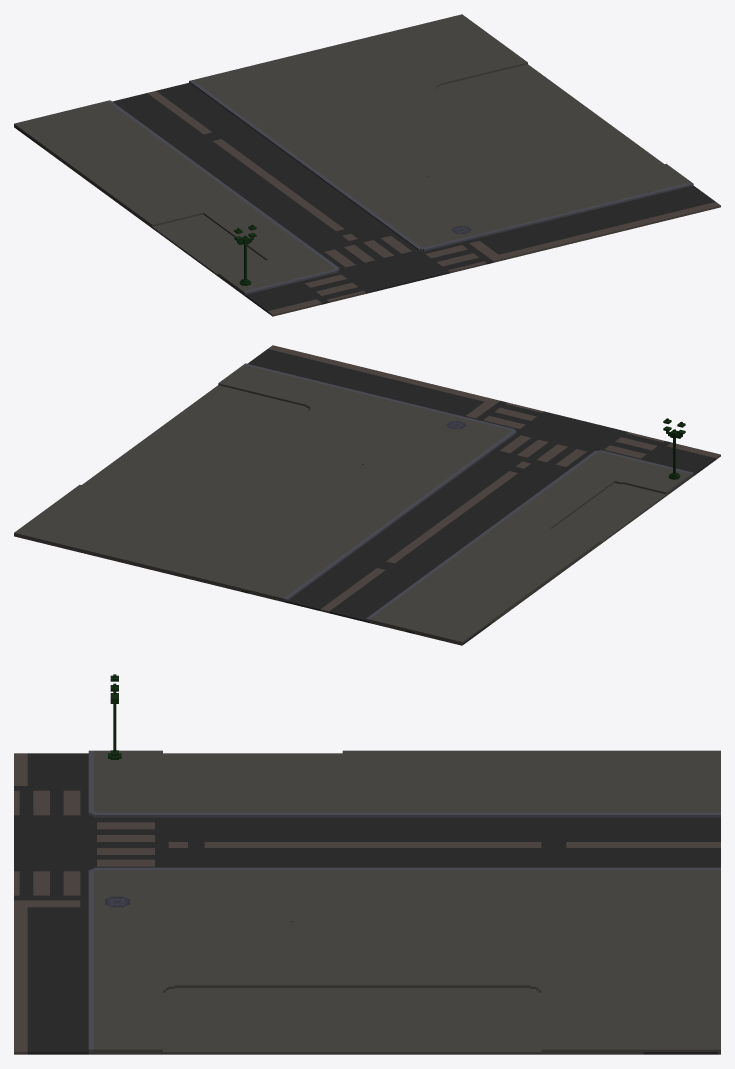
The model's file is Street2-Base.obj.
The picture shows the model from 3 angles, top to bottom: view 1: azimuth 30°, elevation 25°; view 2: azimuth 150°, elevation 25°; view 3: azimuth 270°, elevation 25°; orthographic projection. The views are drawn at different scales.
Size of the model in its own units: 25.6 by 3.3 by 25.6.
1 material, 1 textured.
